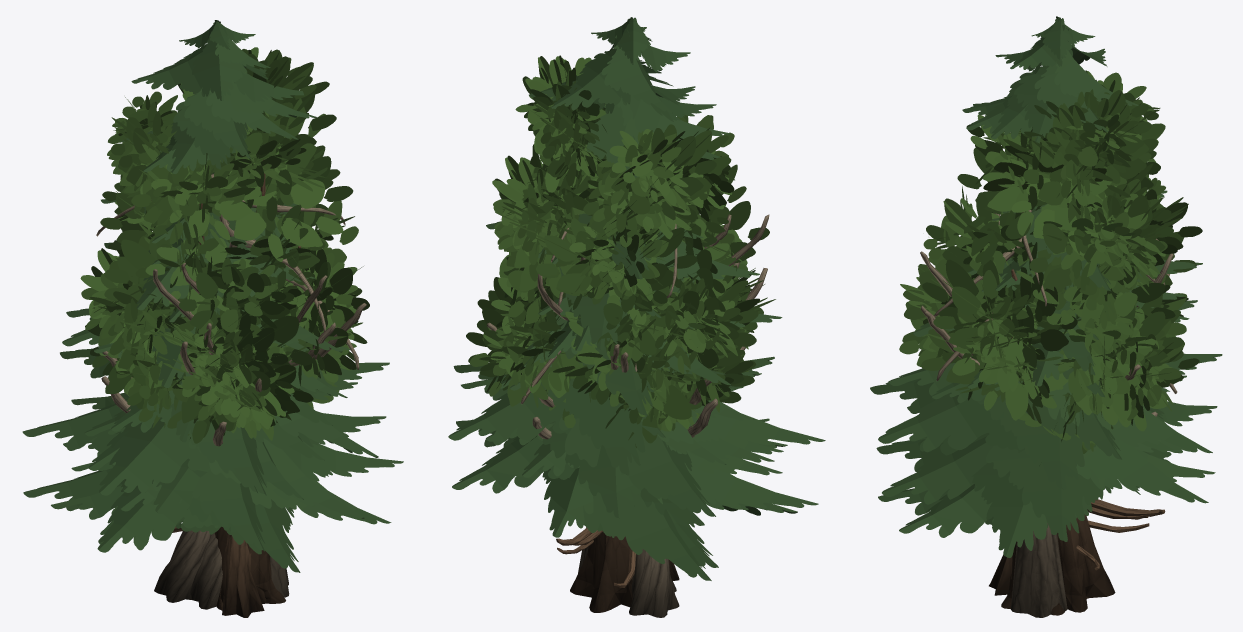
Rendered from natur_kit_baeume.glb.
3 views of the same model, side by side, from view 1: azimuth 30°, elevation 25°; view 2: azimuth 150°, elevation 25°; view 3: azimuth 270°, elevation 25° (orthographic).
Visible parts, largest first — view 1: Laubbaum2, Kiefer3, Laubbaum3, Laubbaum1, Kiefer1, Kiefer2, Totbaum2, Kiefer4, Totbaum1, Totbaum3, Kiefer5; view 2: Laubbaum3, Kiefer3, Laubbaum2, Kiefer2, Laubbaum1, Kiefer1, Totbaum2, Kiefer4, Laubbaum3_Winter, Totbaum1, Totbaum3; view 3: Laubbaum3, Kiefer3, Laubbaum2, Laubbaum1, Kiefer2, Kiefer1, Totbaum3, Kiefer5, Kiefer4, Laubbaum3_Winter, Totbaum1.
Part boxes in pixels (box(x1,y1,x2,y2)): Laubbaum2: box(107, 47, 362, 610); Kiefer3: box(22, 20, 389, 603); Laubbaum3: box(80, 114, 367, 443); Laubbaum1: box(100, 175, 369, 603); Kiefer1: box(51, 211, 403, 617); Kiefer2: box(23, 212, 386, 552); Totbaum2: box(101, 214, 335, 602); Kiefer4: box(63, 207, 357, 492); Totbaum1: box(102, 262, 366, 609); Totbaum3: box(96, 173, 359, 597); Kiefer5: box(159, 204, 350, 421); Laubbaum3: box(466, 144, 775, 612); Kiefer3: box(448, 17, 825, 587); Laubbaum2: box(515, 55, 769, 428); Kiefer2: box(452, 226, 818, 580); Laubbaum1: box(530, 167, 763, 447); Kiefer1: box(522, 257, 797, 580); Totbaum2: box(532, 214, 769, 617); Kiefer4: box(486, 236, 783, 545); Laubbaum3_Winter: box(570, 532, 632, 612); Totbaum1: box(487, 214, 740, 591); Totbaum3: box(521, 224, 677, 573); Laubbaum3: box(899, 130, 1199, 612); Kiefer3: box(870, 16, 1222, 532); Laubbaum2: box(902, 70, 1165, 465); Laubbaum1: box(900, 163, 1202, 615); Kiefer2: box(876, 204, 1217, 541); Kiefer1: box(878, 259, 1215, 595); Totbaum3: box(934, 210, 1177, 617); Kiefer5: box(931, 248, 1155, 570); Kiefer4: box(907, 208, 1186, 519); Laubbaum3_Winter: box(1060, 514, 1115, 612); Totbaum1: box(920, 213, 1173, 380).
Size of the model in its own units: 6.59 by 10.56 by 6.11.
4 materials, 4 textured.
